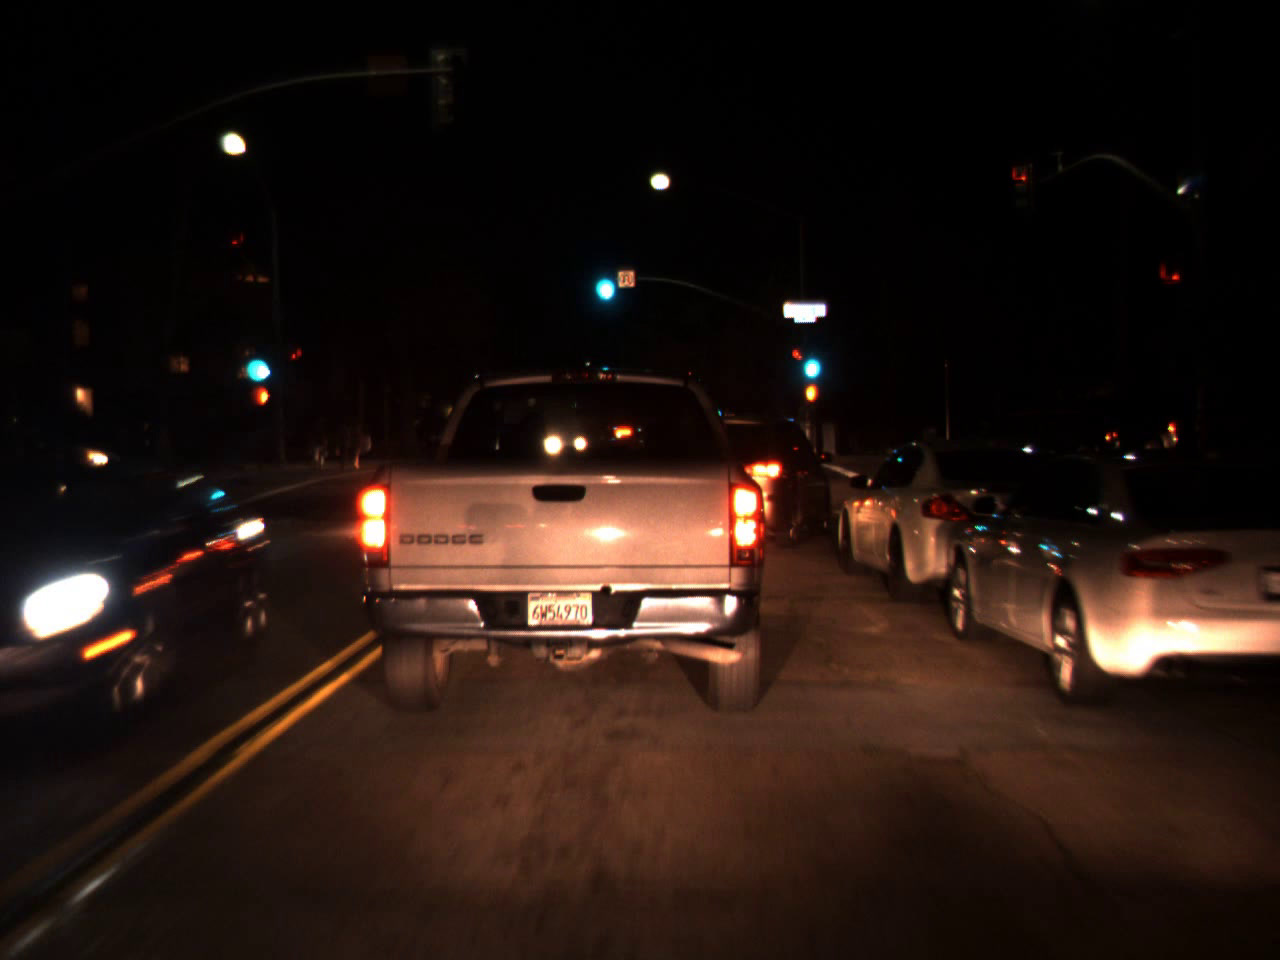go: (240, 330, 268, 390), (588, 251, 618, 308), (797, 333, 824, 387)
